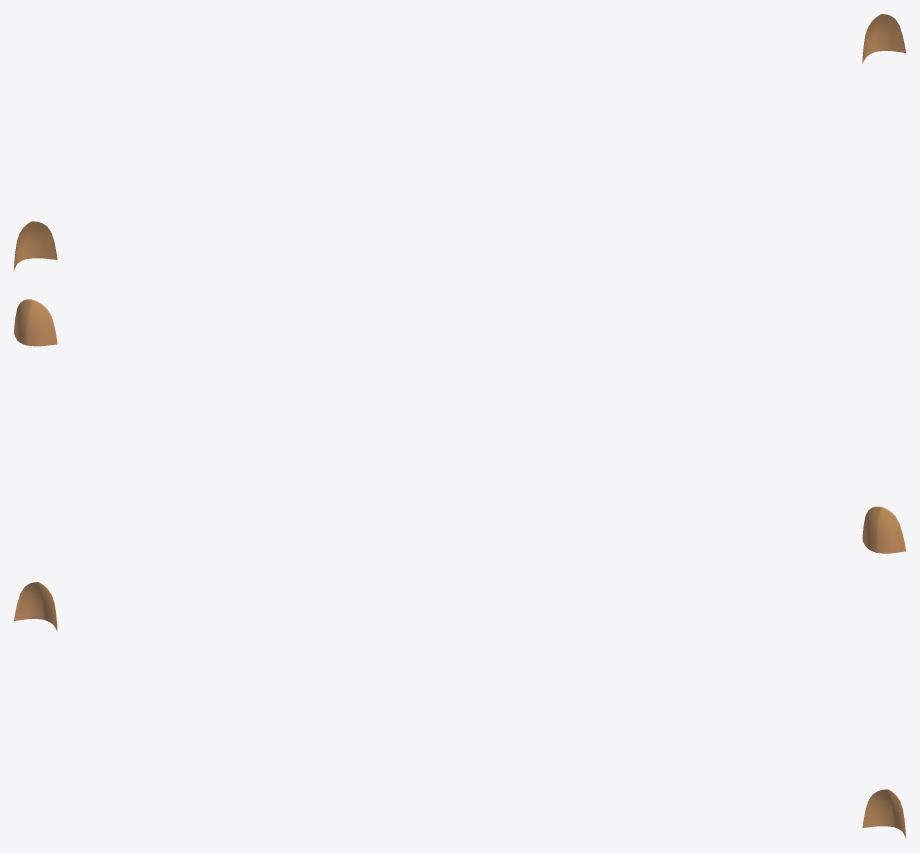
File: o_glass_03.fbx
3 renders of one model, top to bottom at view 1: azimuth 30°, elevation 25°; view 2: azimuth 150°, elevation 25°; view 3: azimuth 330°, elevation 25°, orthographic.
Parts seen in each view (by area): view 1: o_glass_03; view 2: o_glass_03; view 3: o_glass_03.
Part boxes in pixels (x1,y1,x2,y2): o_glass_03: [14, 14, 905, 270]; o_glass_03: [14, 299, 905, 553]; o_glass_03: [14, 582, 905, 838].
Bounding box in the file's own units: 362 × 16.19 × 6.37.
